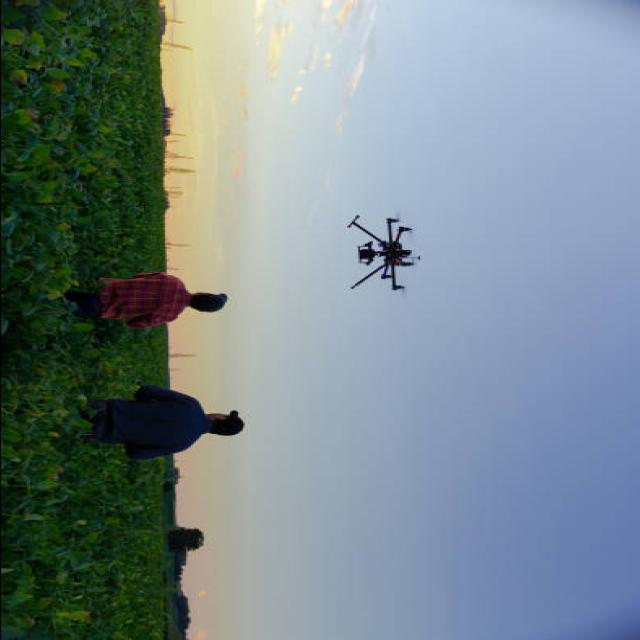drone: (346, 215, 421, 292)
